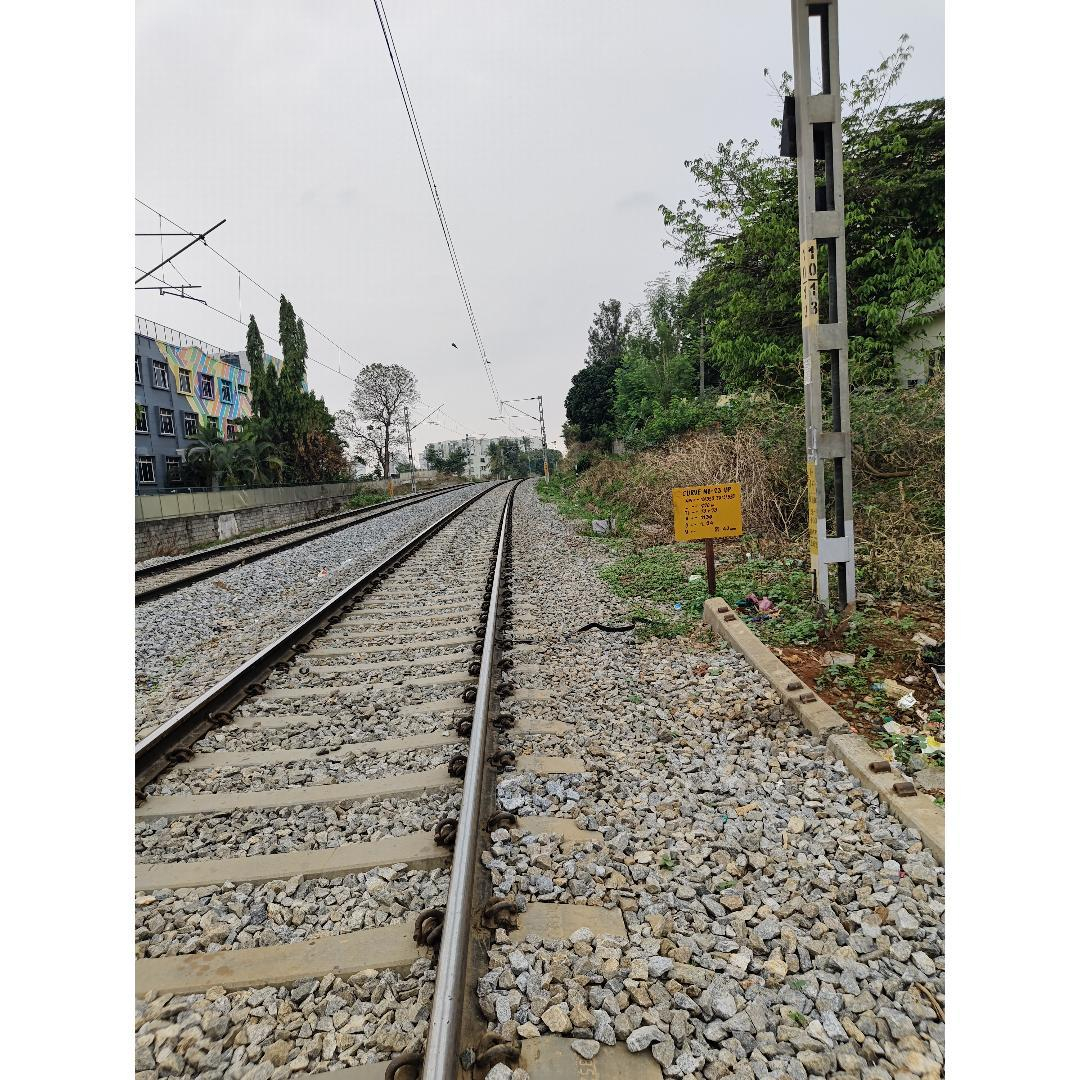track: (138, 475, 547, 1080)
